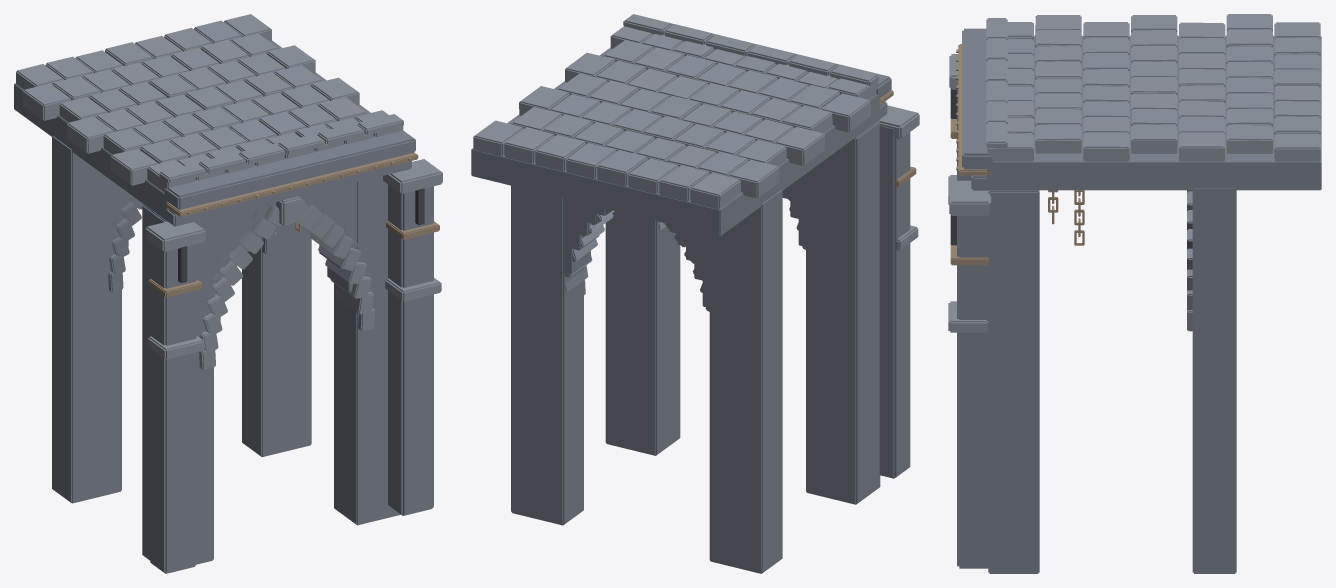
File: gothic_skybridge_bay_norail.glb
3 renders of one model, left to right at view 1: azimuth 30°, elevation 25°; view 2: azimuth 150°, elevation 25°; view 3: azimuth 270°, elevation 25°, orthographic. The views are drawn at different scales.
Parts seen in each view (by area): view 1: DeckCarvedStone, DeckSlate, DeckAncientBronze, DeckWroughtIron; view 2: DeckCarvedStone, DeckSlate; view 3: DeckCarvedStone, DeckSlate, DeckAncientBronze.
Part boxes in pixels (x1=…): DeckCarvedStone: x1=14, y1=40, x2=433, y2=573; DeckSlate: x1=16, y1=14, x2=442, y2=370; DeckAncientBronze: x1=148, y1=152, x2=439, y2=297; DeckWroughtIron: x1=178, y1=188, x2=424, y2=283; DeckCarvedStone: x1=471, y1=23, x2=910, y2=573; DeckSlate: x1=473, y1=14, x2=919, y2=250; DeckCarvedStone: x1=957, y1=28, x2=1321, y2=573; DeckSlate: x1=948, y1=14, x2=1320, y2=332; DeckAncientBronze: x1=950, y1=44, x2=1084, y2=265.
Bounding box in the file's own units: 4.96 × 6.68 × 5.24.
